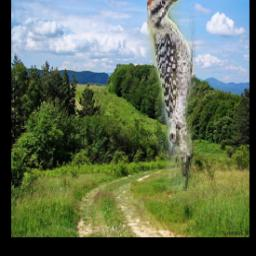Woodpecker: (147, 0, 195, 192)
